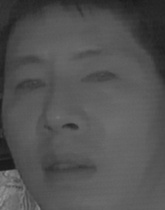eye: (78, 67, 117, 88), (14, 75, 46, 94)
mouth: (38, 151, 99, 186)
